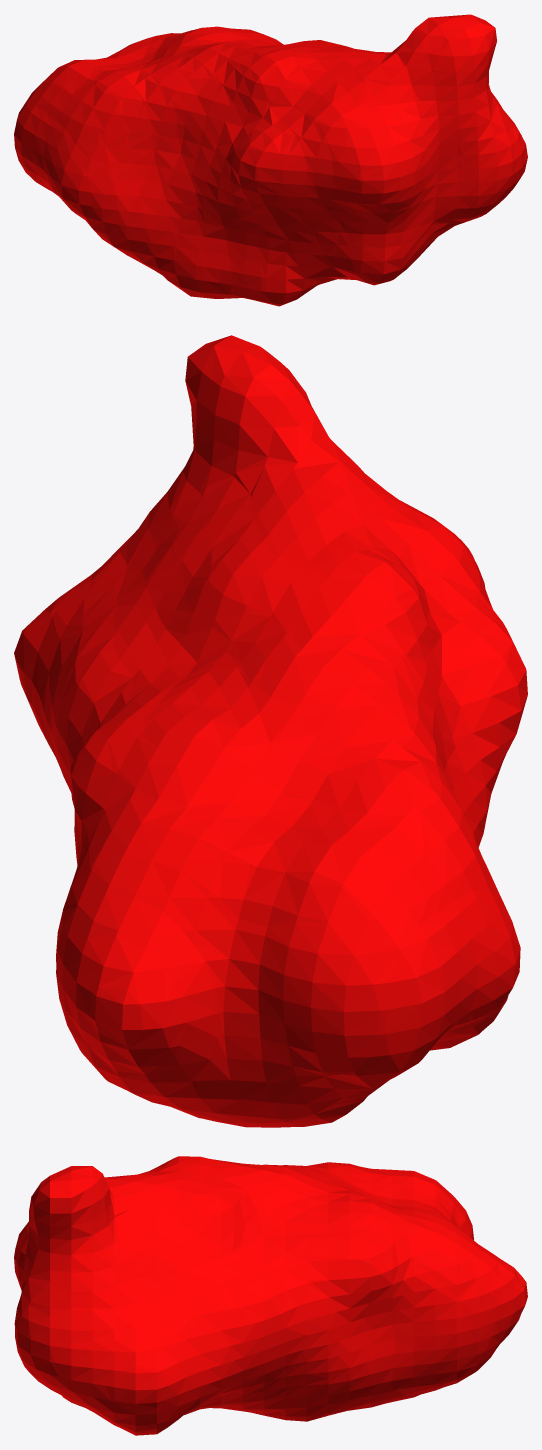
Rendered from bfr_coarse.dae.
The picture shows the model from 3 angles, top to bottom: view 1: azimuth 30°, elevation 25°; view 2: azimuth 150°, elevation 25°; view 3: azimuth 270°, elevation 25°; orthographic projection. The views are drawn at different scales.
Visible parts, largest first — view 1: bfr; view 2: bfr; view 3: bfr.
Boxes of the visible parts, left/top/right/bottom form: bfr: left=14, top=14, right=527, bottom=306; bfr: left=14, top=335, right=527, bottom=1127; bfr: left=14, top=1156, right=527, bottom=1435.
Size of the model in its own units: 49.8 by 37.54 by 56.98.
